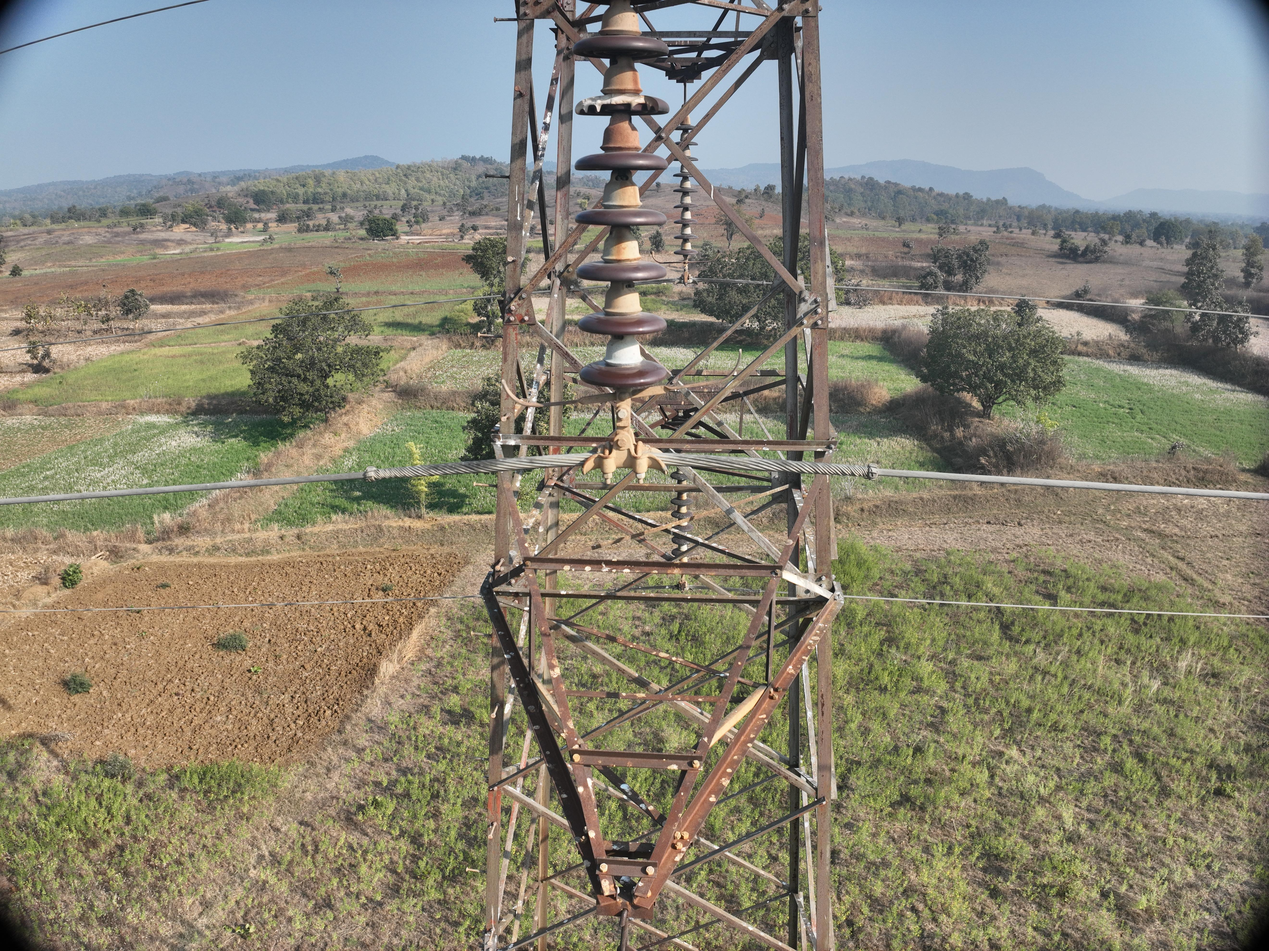broken_insulator: (568, 83, 678, 127)
